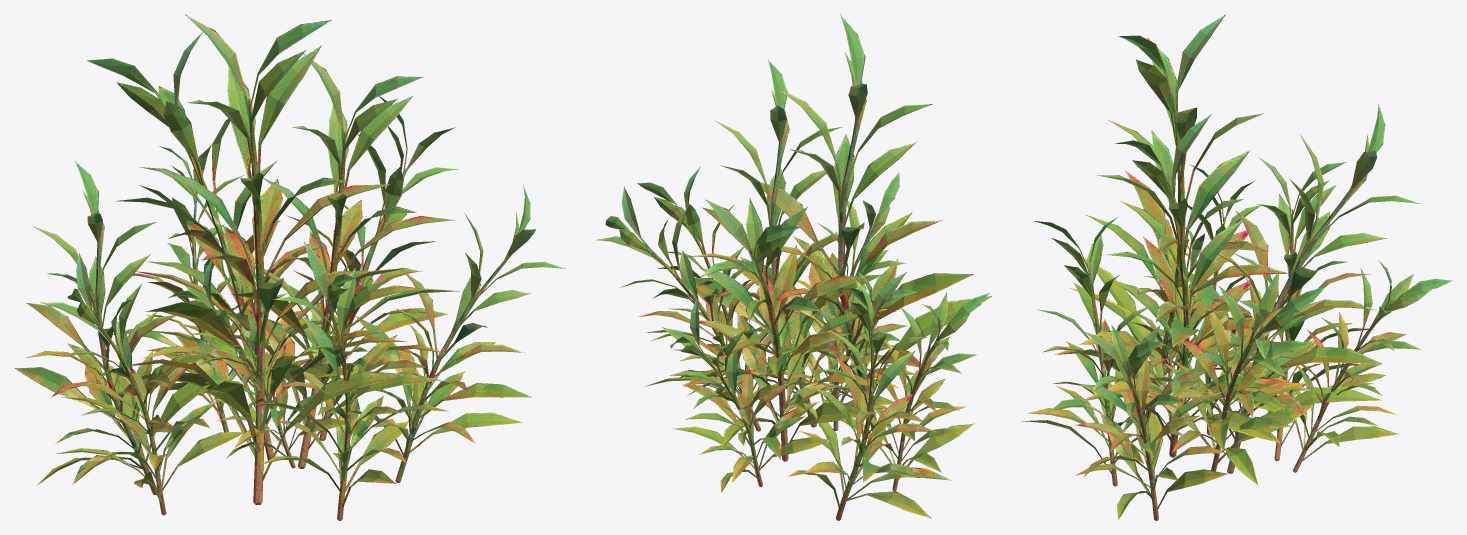
Rendered from Plant_0502171925.glb.
3 views of the same model, side by side, from view 1: azimuth 30°, elevation 25°; view 2: azimuth 150°, elevation 25°; view 3: azimuth 270°, elevation 25° (orthographic). The views are drawn at different scales.
Bounding box in the file's own units: 0.8852 × 1 × 0.8456.
1 material, 1 textured.
